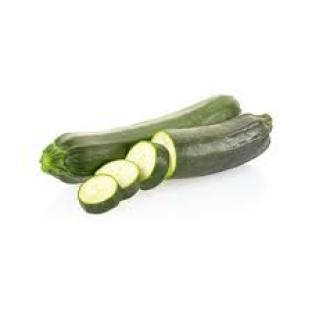Zucchini: (41, 96, 239, 183), (153, 114, 271, 177), (127, 142, 169, 189), (96, 160, 140, 199), (78, 175, 122, 213)
